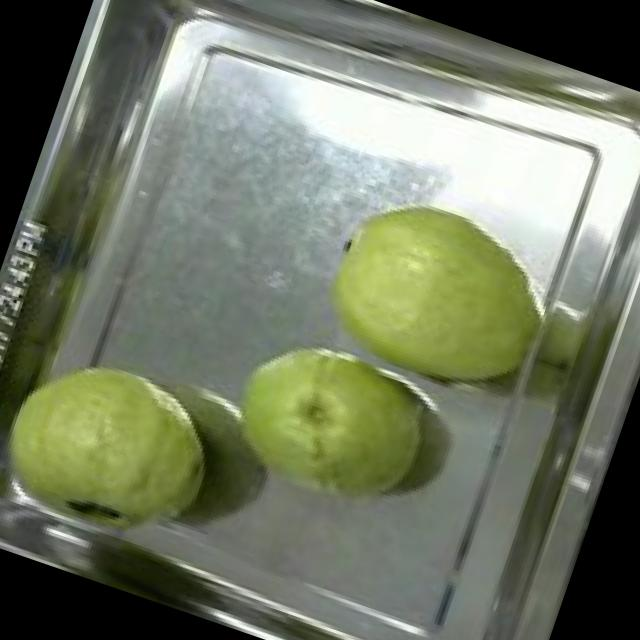Fruit: (292, 167, 570, 428), (200, 306, 454, 540), (0, 325, 242, 567)
